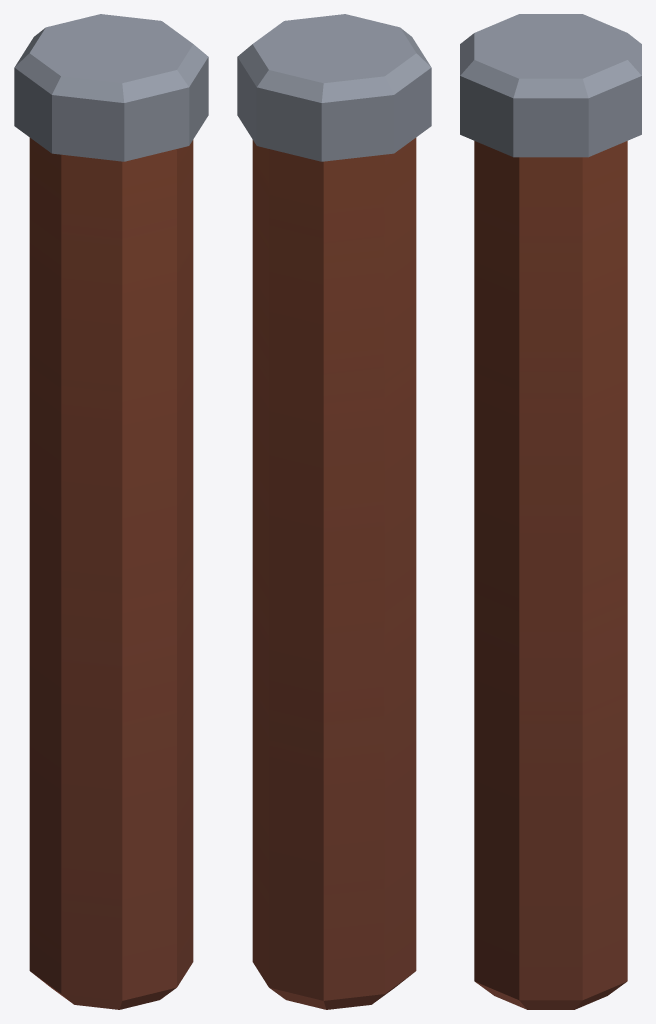
Rendered from SM_Props_Laboratory_17.fbx.
3 renders of one model, left to right at view 1: azimuth 30°, elevation 25°; view 2: azimuth 150°, elevation 25°; view 3: azimuth 270°, elevation 25°, orthographic.
Visible parts, largest first — view 1: SM_Props_Laboratory_17; view 2: SM_Props_Laboratory_17; view 3: SM_Props_Laboratory_17.
Boxes of the visible parts, box(x1,y1,x2,y2) form: SM_Props_Laboratory_17: box(14, 14, 208, 1009); SM_Props_Laboratory_17: box(237, 14, 431, 1009); SM_Props_Laboratory_17: box(460, 14, 641, 1009).
Size of the model in its own units: 0.0329 by 0.1878 by 0.0329.
